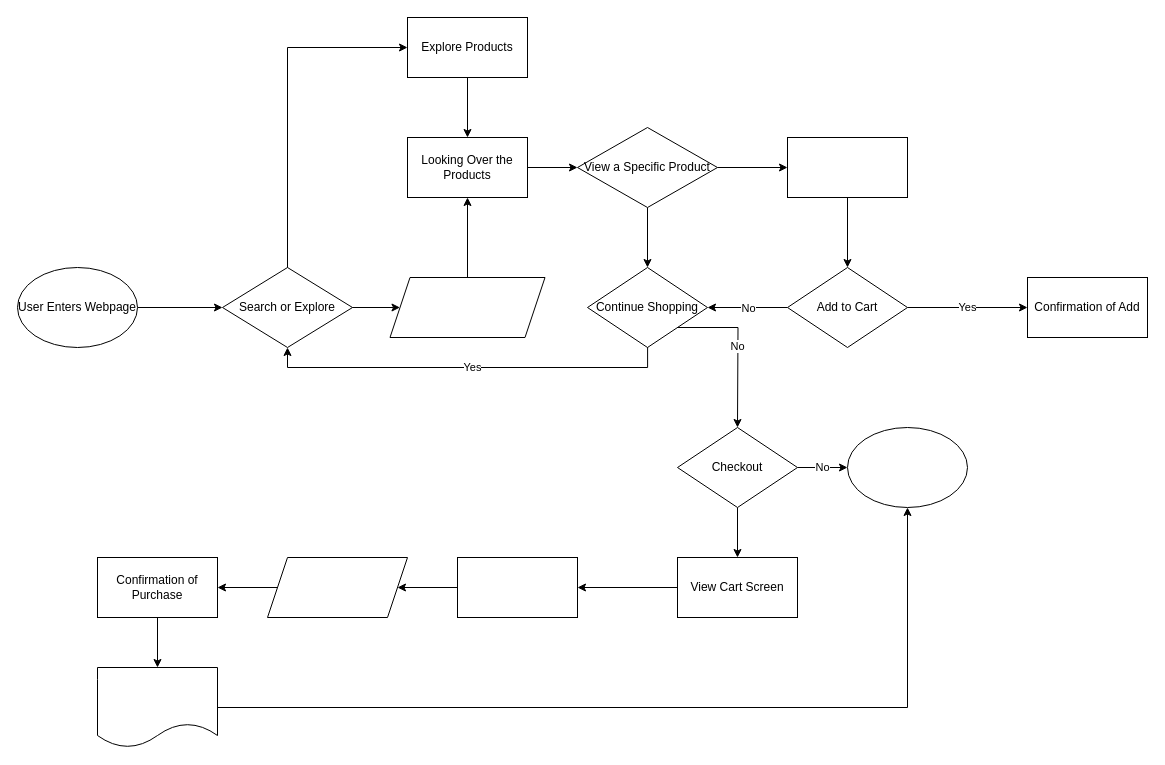
The diagram is 1165 pixels wide and 765 high, and some of its shapes have lost their labels. The centre of each missing label's shape, as x and y in pixels:
"Leave website" belongs at pixel 907 467.
"Send Email" belongs at pixel 157 707.
"User Payment Info" belongs at pixel 337 587.
"User Provide Input for Search" belongs at pixel 467 307.
"View Payment" belongs at pixel 517 587.
"View the Product WebPage" belongs at pixel 847 167.
